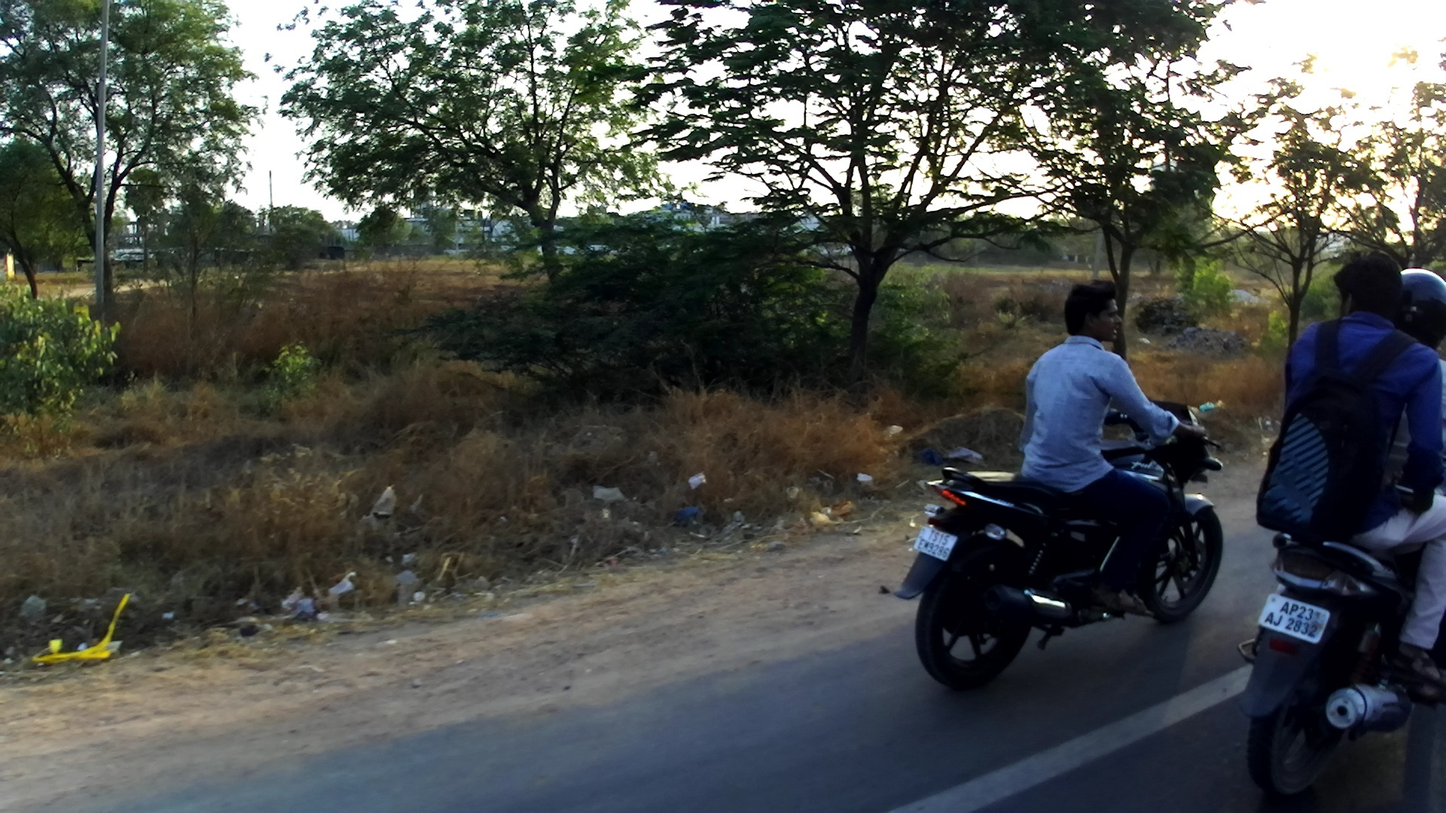motorcycle: (870, 394, 1225, 687), (1234, 527, 1443, 799)
rider: (1244, 248, 1444, 706), (1020, 276, 1209, 623), (1393, 263, 1444, 497)
